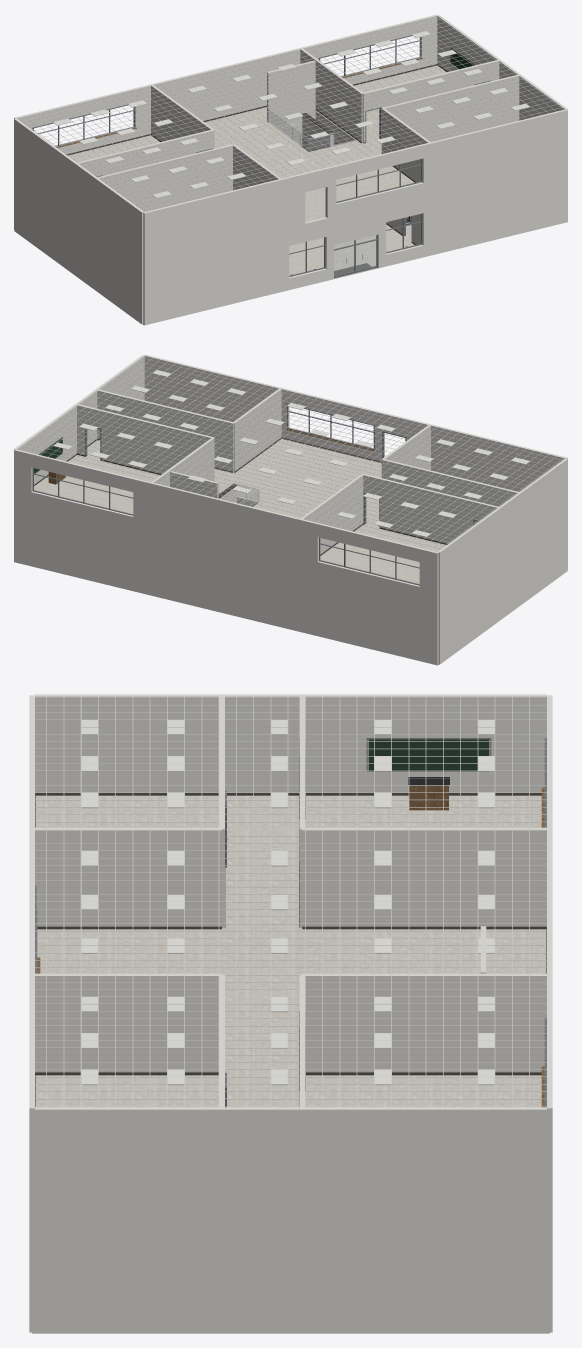
The model's file is boya_interior.glb.
3 renders of one model, top to bottom at view 1: azimuth 30°, elevation 25°; view 2: azimuth 150°, elevation 25°; view 3: azimuth 270°, elevation 25°, orthographic. The views are drawn at different scales.
Parts seen in each view (by area): view 1: L1_part, L0_WALL_S_wall, L1_WALL_S_wall, L1_WALL_ceil_tbar, L1_WALL_N_wall, L1_floor, L0_WALL_W_wall, L1_WALL_W_wall, L1_WALL_ceil_trof, L1_WALL_E_wall, L0_floor, L0_part (+5 smaller); view 2: L0_WALL_N_wall, L1_part, L1_WALL_ceil_tbar, L1_WALL_N_wall, L1_WALL_S_wall, L1_floor, L0_WALL_W_wall, L1_WALL_W_wall, L1_WALL_ceil_trof, L1_WALL_E_wall, L1_WALL_N_frame, L1_WALL_S_frame (+1 smaller); view 3: L1_part, L1_floor, L0_WALL_E_wall, L1_WALL_E_wall, L1_WALL_ceil_tbar, L1_WALL_W_wall, L1_WALL_ceil_trof, L1_board, L1_base, L1_WALL_N_wall, L1_WALL_S_wall, L1_WALL_W_base (+2 smaller).
Boxes of the visible parts, x1,y1,x2,y2 form: L1_part: (77, 48, 519, 211); L0_WALL_S_wall: (143, 159, 567, 325); L1_WALL_S_wall: (143, 109, 567, 262); L1_WALL_ceil_tbar: (18, 16, 563, 211); L1_WALL_N_wall: (14, 14, 438, 166); L1_floor: (68, 65, 446, 222); L0_WALL_W_wall: (14, 169, 143, 324); L1_WALL_W_wall: (14, 118, 143, 261); L1_WALL_ceil_trof: (54, 31, 529, 197); L1_WALL_E_wall: (437, 15, 567, 120); L0_floor: (143, 224, 414, 325); L0_part: (277, 116, 420, 244); L0_WALL_N_wall: (14, 499, 438, 665); L1_part: (77, 388, 518, 554); L1_WALL_ceil_tbar: (18, 356, 563, 551); L1_WALL_N_wall: (14, 449, 438, 602); L1_WALL_S_wall: (143, 354, 567, 506); L1_floor: (34, 439, 446, 583); L0_WALL_W_wall: (438, 509, 567, 664); L1_WALL_W_wall: (438, 458, 567, 601); L1_WALL_ceil_trof: (53, 370, 529, 536); L1_WALL_E_wall: (14, 355, 144, 484); L1_WALL_N_frame: (32, 468, 419, 585); L1_WALL_S_frame: (286, 403, 406, 458); L1_part: (35, 696, 546, 1107); L1_floor: (35, 795, 546, 1107); L0_WALL_E_wall: (35, 1208, 546, 1333); L1_WALL_E_wall: (35, 1107, 546, 1208); L1_WALL_ceil_tbar: (35, 696, 546, 1107); L1_WALL_W_wall: (35, 694, 546, 792); L1_WALL_ceil_trof: (81, 720, 494, 1085); L1_board: (368, 739, 489, 770); L1_base: (35, 817, 546, 1106); L1_WALL_N_wall: (547, 695, 552, 1207); L1_WALL_S_wall: (29, 695, 34, 1207); L1_WALL_W_base: (35, 793, 541, 795).
Size of the model in its own units: 34.2 by 8.65 by 18.2.
31 materials, 9 textured.
